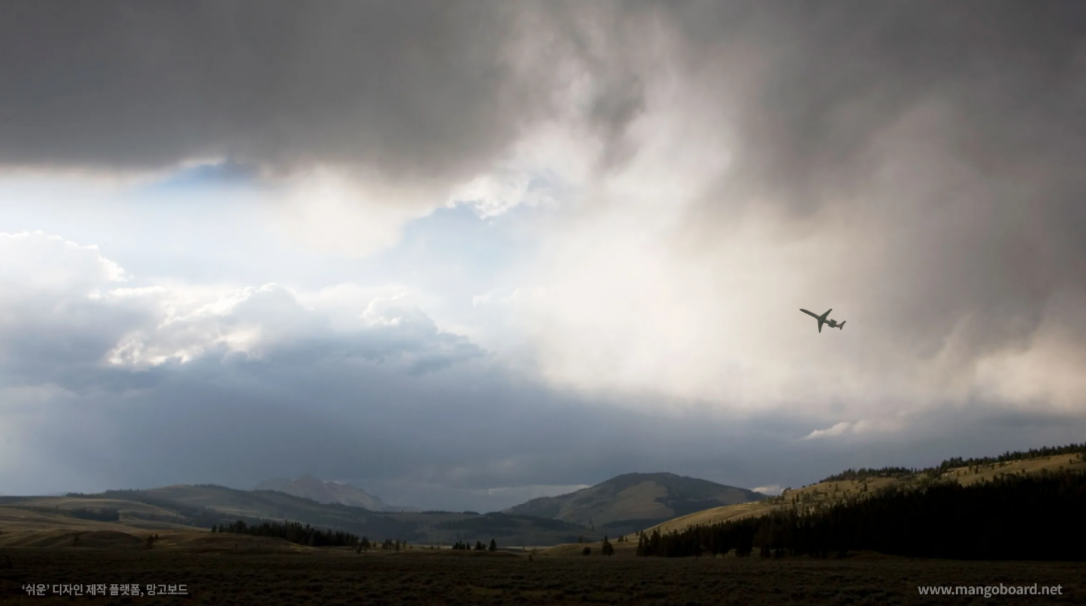military drone: (799, 308, 846, 333)
